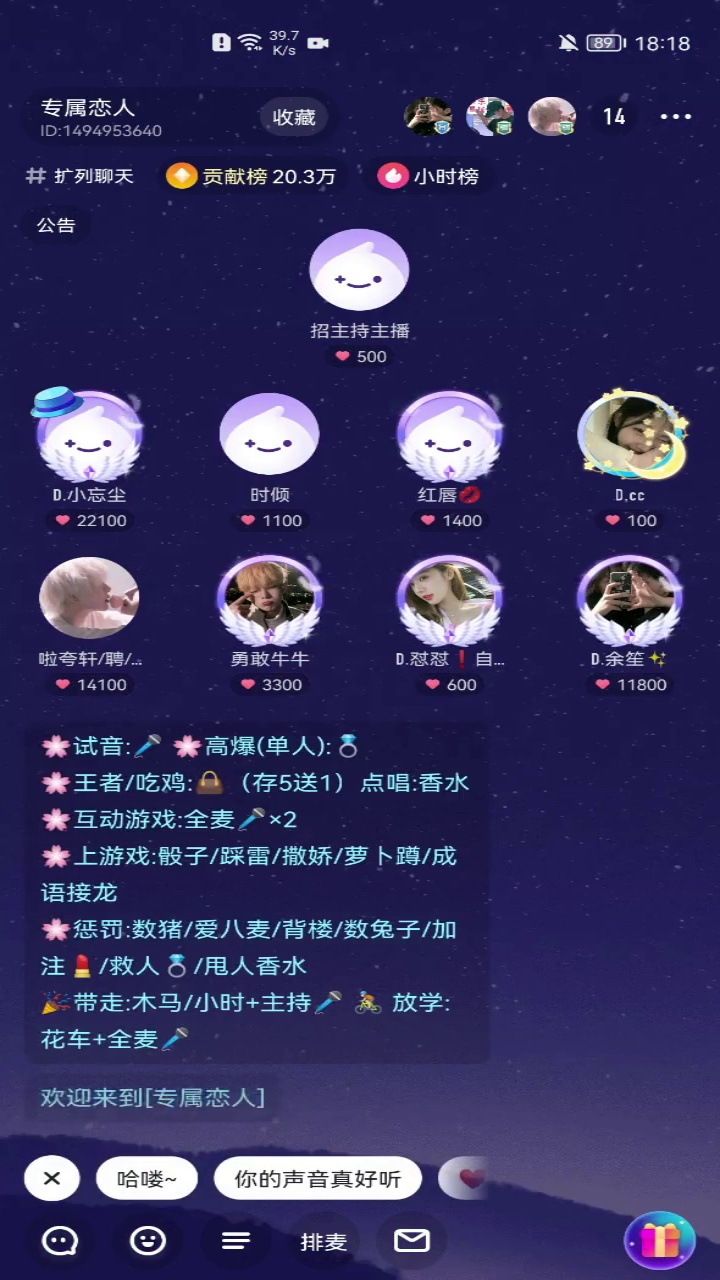avatar: (391, 385, 513, 489), (29, 382, 144, 486), (216, 385, 324, 480), (308, 226, 412, 317)
